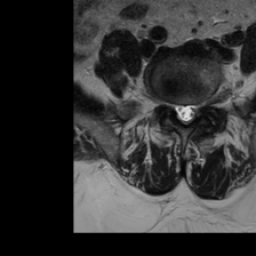CCS_normal: (182, 95, 189, 130)
LFS_stenosis: (197, 90, 206, 115)
LLS_normal: (189, 95, 197, 126)
RFS_stenosis: (165, 91, 173, 111)
RLS_normal: (173, 95, 182, 124)
